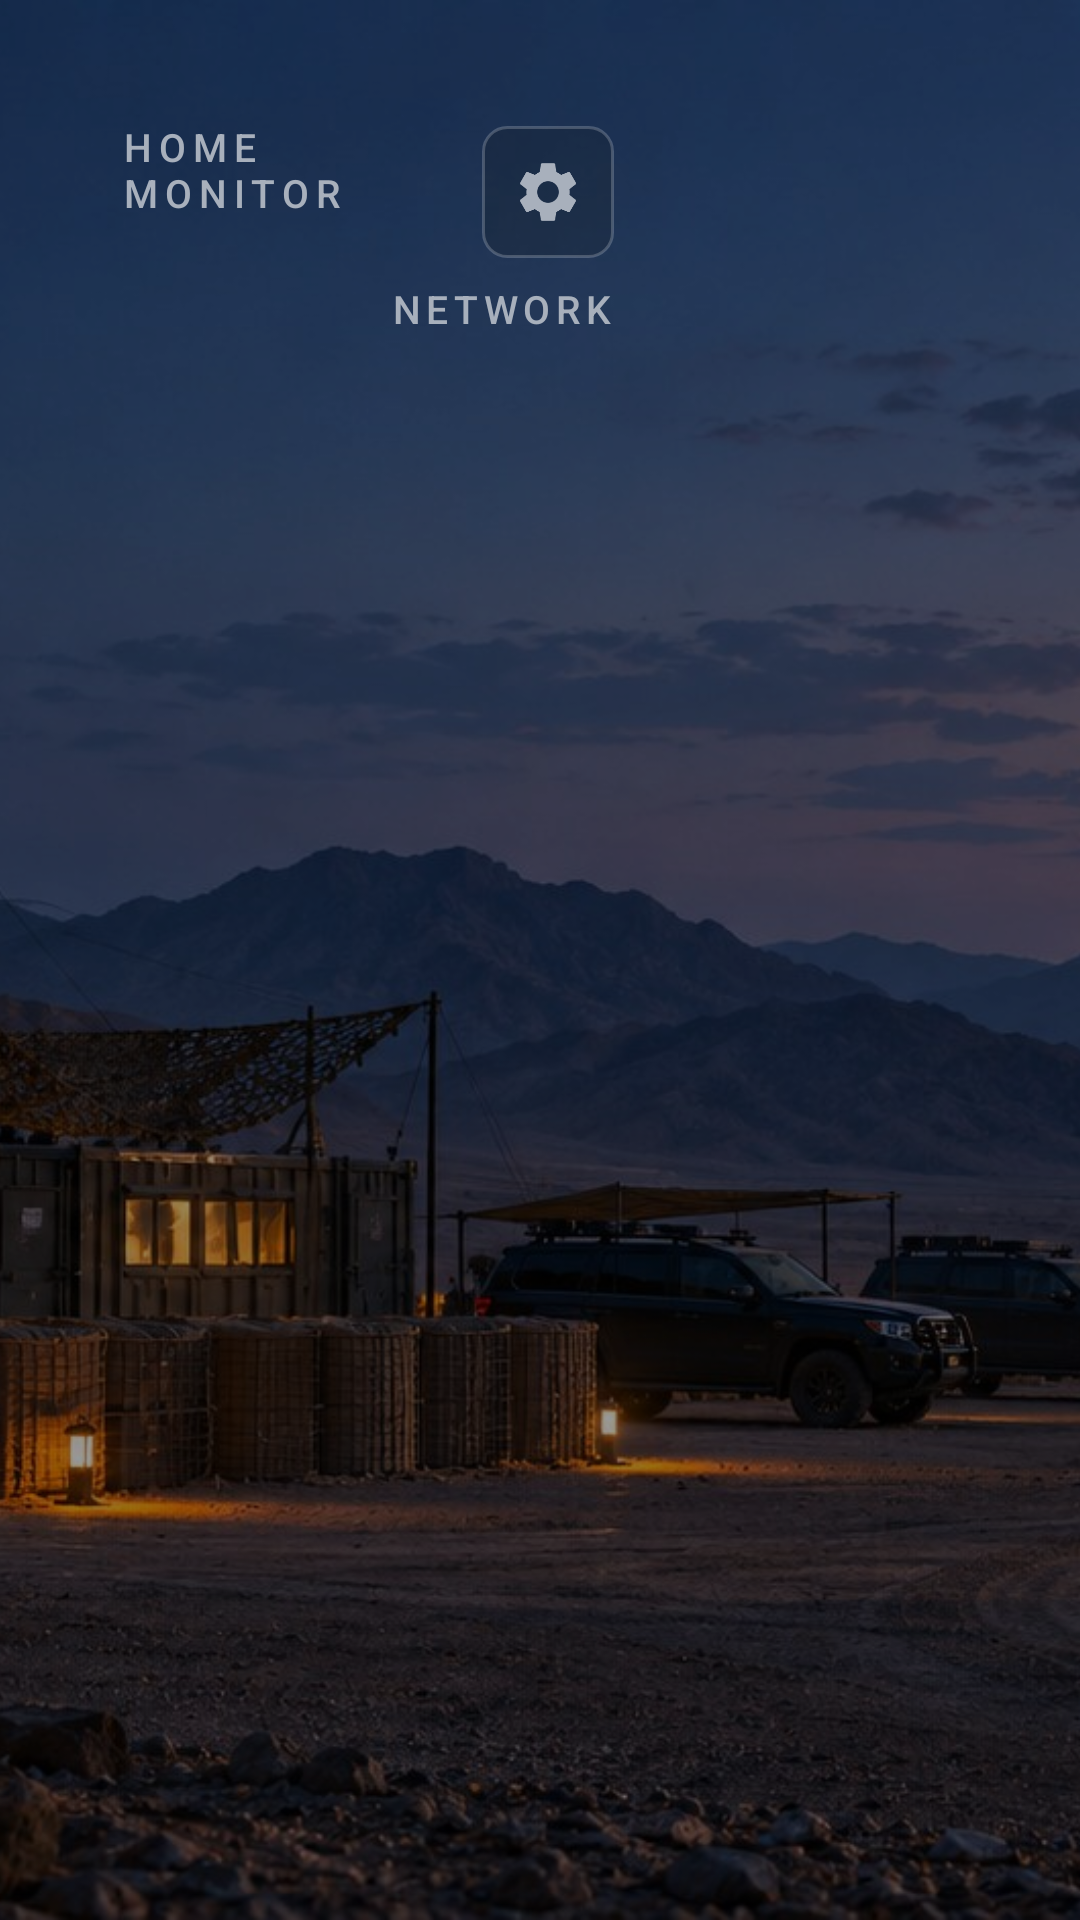

Screen size 1080×1920. Icon name, then its box in pixels as (x1, y1, x2, y2):
Settings: (482, 126, 614, 258)
